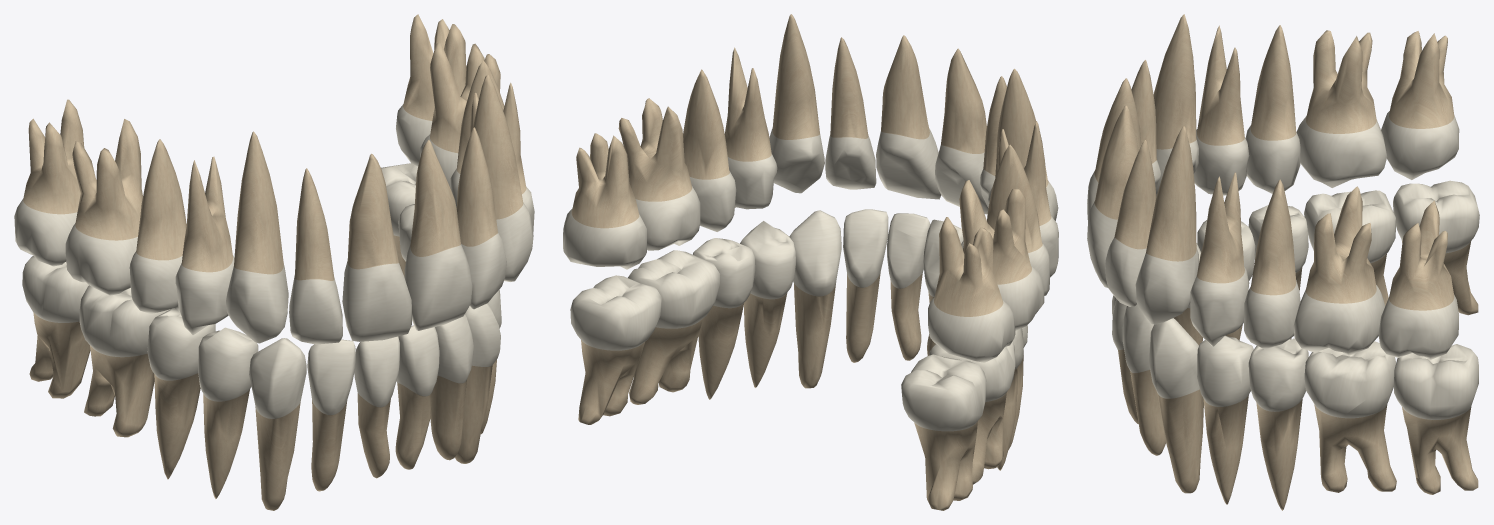
File: overview.glb
3 renders of one model, left to right at view 1: azimuth 30°, elevation 25°; view 2: azimuth 150°, elevation 25°; view 3: azimuth 270°, elevation 25°, orthographic. The views are drawn at different scales.
Parts seen in each view (by area): view 1: dentition; view 2: dentition; view 3: dentition.
Boxes of the visible parts, box(x1,y1,x2,y2) form: dentition: box(14, 14, 534, 510); dentition: box(563, 14, 1058, 510); dentition: box(1087, 14, 1479, 510).
Bounding box in the file's own units: 0.0646 × 0.0518 × 0.0489.
Materials: 2 (2 with a texture image).
